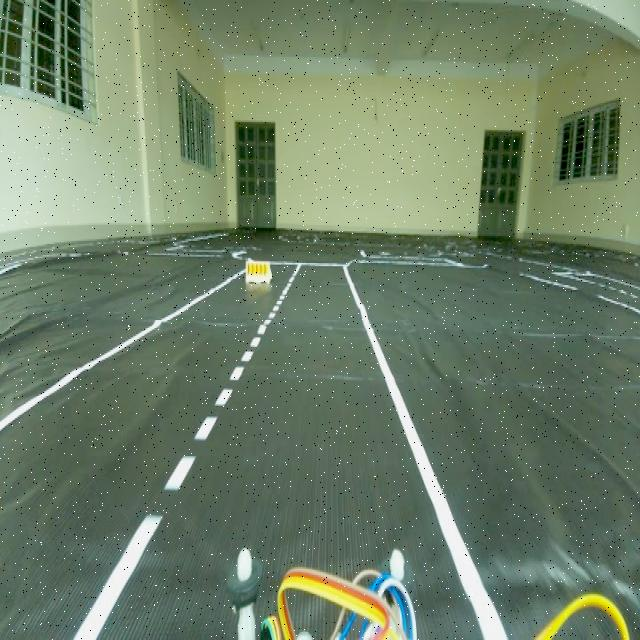roadblock: (244, 250, 270, 290)
